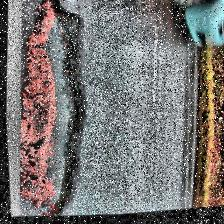pothole: (5, 0, 100, 222)
